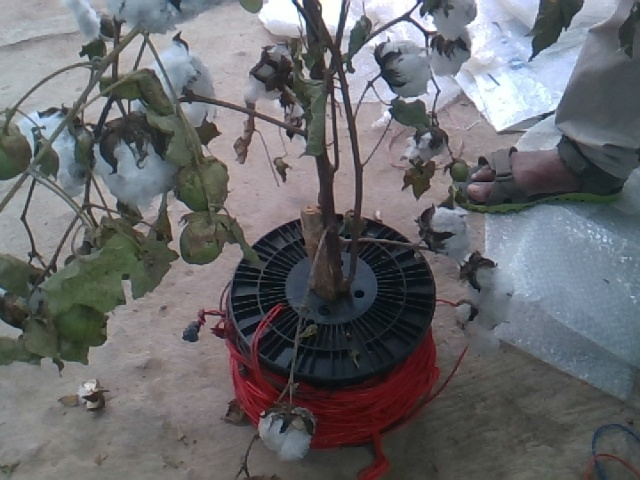cotton: (105, 1, 221, 28), (467, 263, 511, 325), (448, 306, 499, 357), (380, 43, 428, 94), (258, 413, 312, 457), (428, 34, 472, 77), (431, 205, 469, 253), (432, 1, 477, 37)
